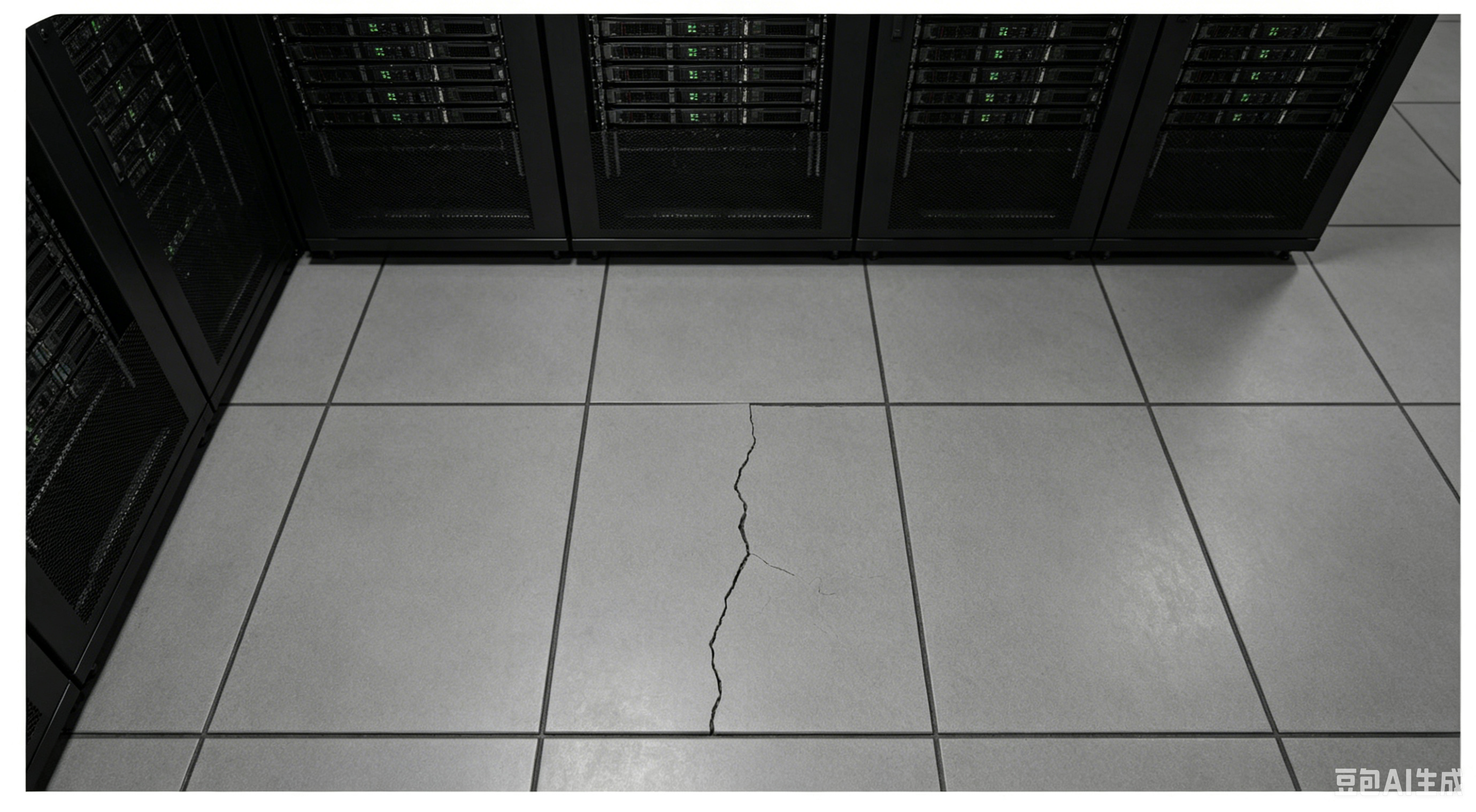floor_defect: (699, 394, 768, 753)
